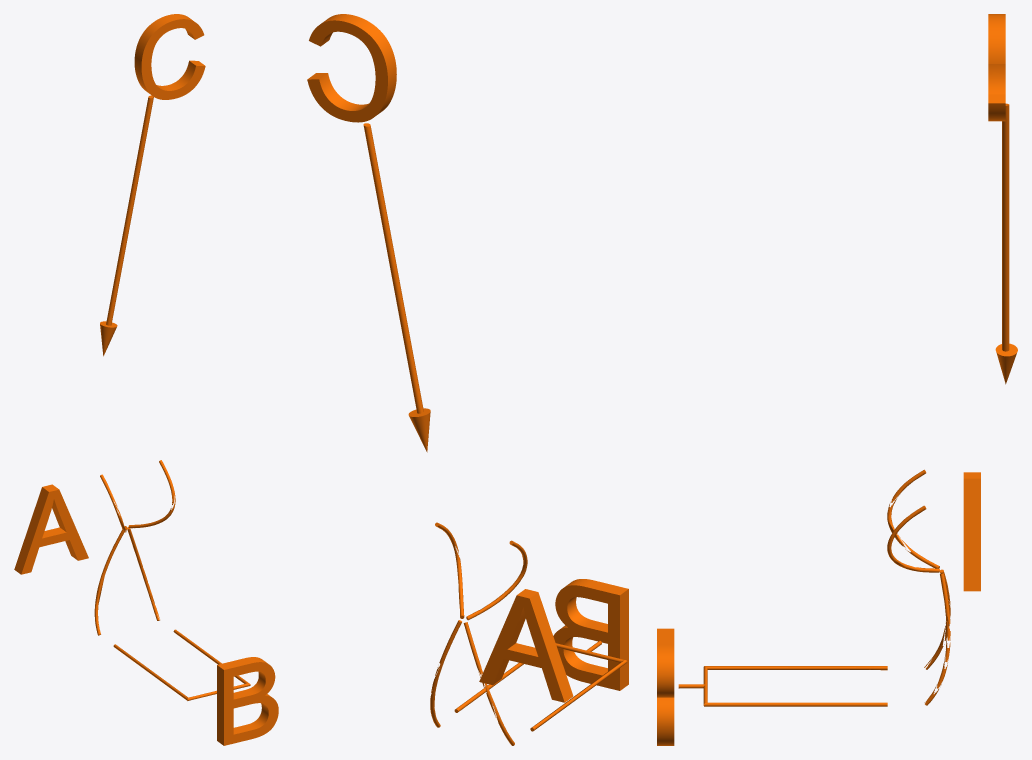
Rendered from s6arrow.glb.
3 views of the same model, side by side, from view 1: azimuth 30°, elevation 25°; view 2: azimuth 150°, elevation 25°; view 3: azimuth 270°, elevation 25° (orthographic). The views are drawn at different scales.
Parts seen in each view (by area): view 1: Node; view 2: Node; view 3: Node.
Boxes of the visible parts, <box> form: Node: <box>14,14,278,745</box>; Node: <box>307,14,628,745</box>; Node: <box>657,14,1017,745</box>.
Size of the model in its own units: 4.02 by 12 by 5.19.
